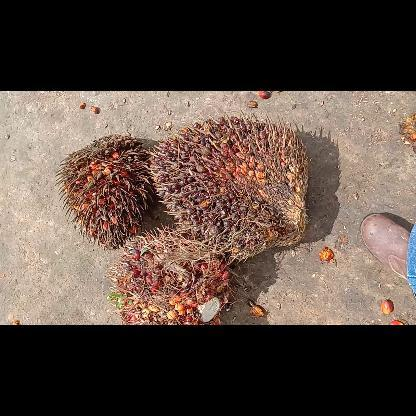Kurang masak: (154, 113, 308, 255)
TBS masak: (118, 233, 233, 324)
Terlalu masak: (57, 136, 153, 246)
